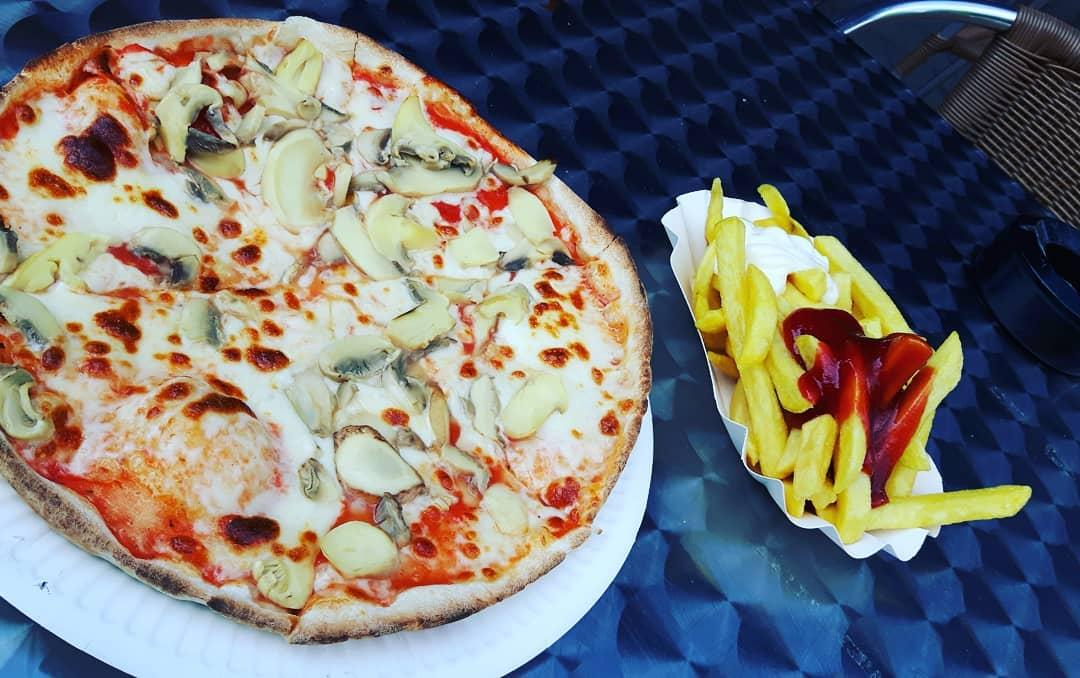Mushroom: (252, 512, 405, 612), (375, 91, 486, 193), (155, 77, 248, 178), (327, 423, 438, 504), (263, 128, 345, 231), (467, 370, 579, 443), (247, 30, 331, 123), (384, 273, 462, 353), (365, 194, 444, 266), (128, 221, 206, 289), (0, 285, 67, 353), (0, 367, 58, 444), (173, 294, 226, 366), (316, 333, 384, 384), (499, 232, 574, 274)
Pizza: (1, 20, 652, 647)
